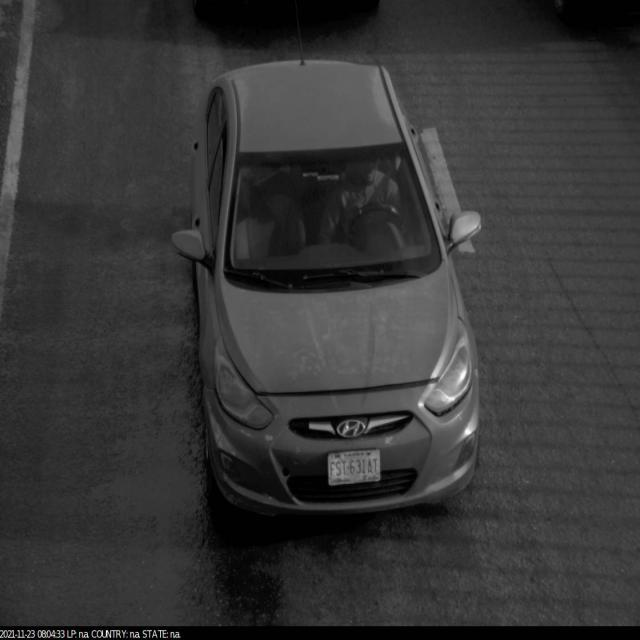windshield: (214, 137, 448, 287)
